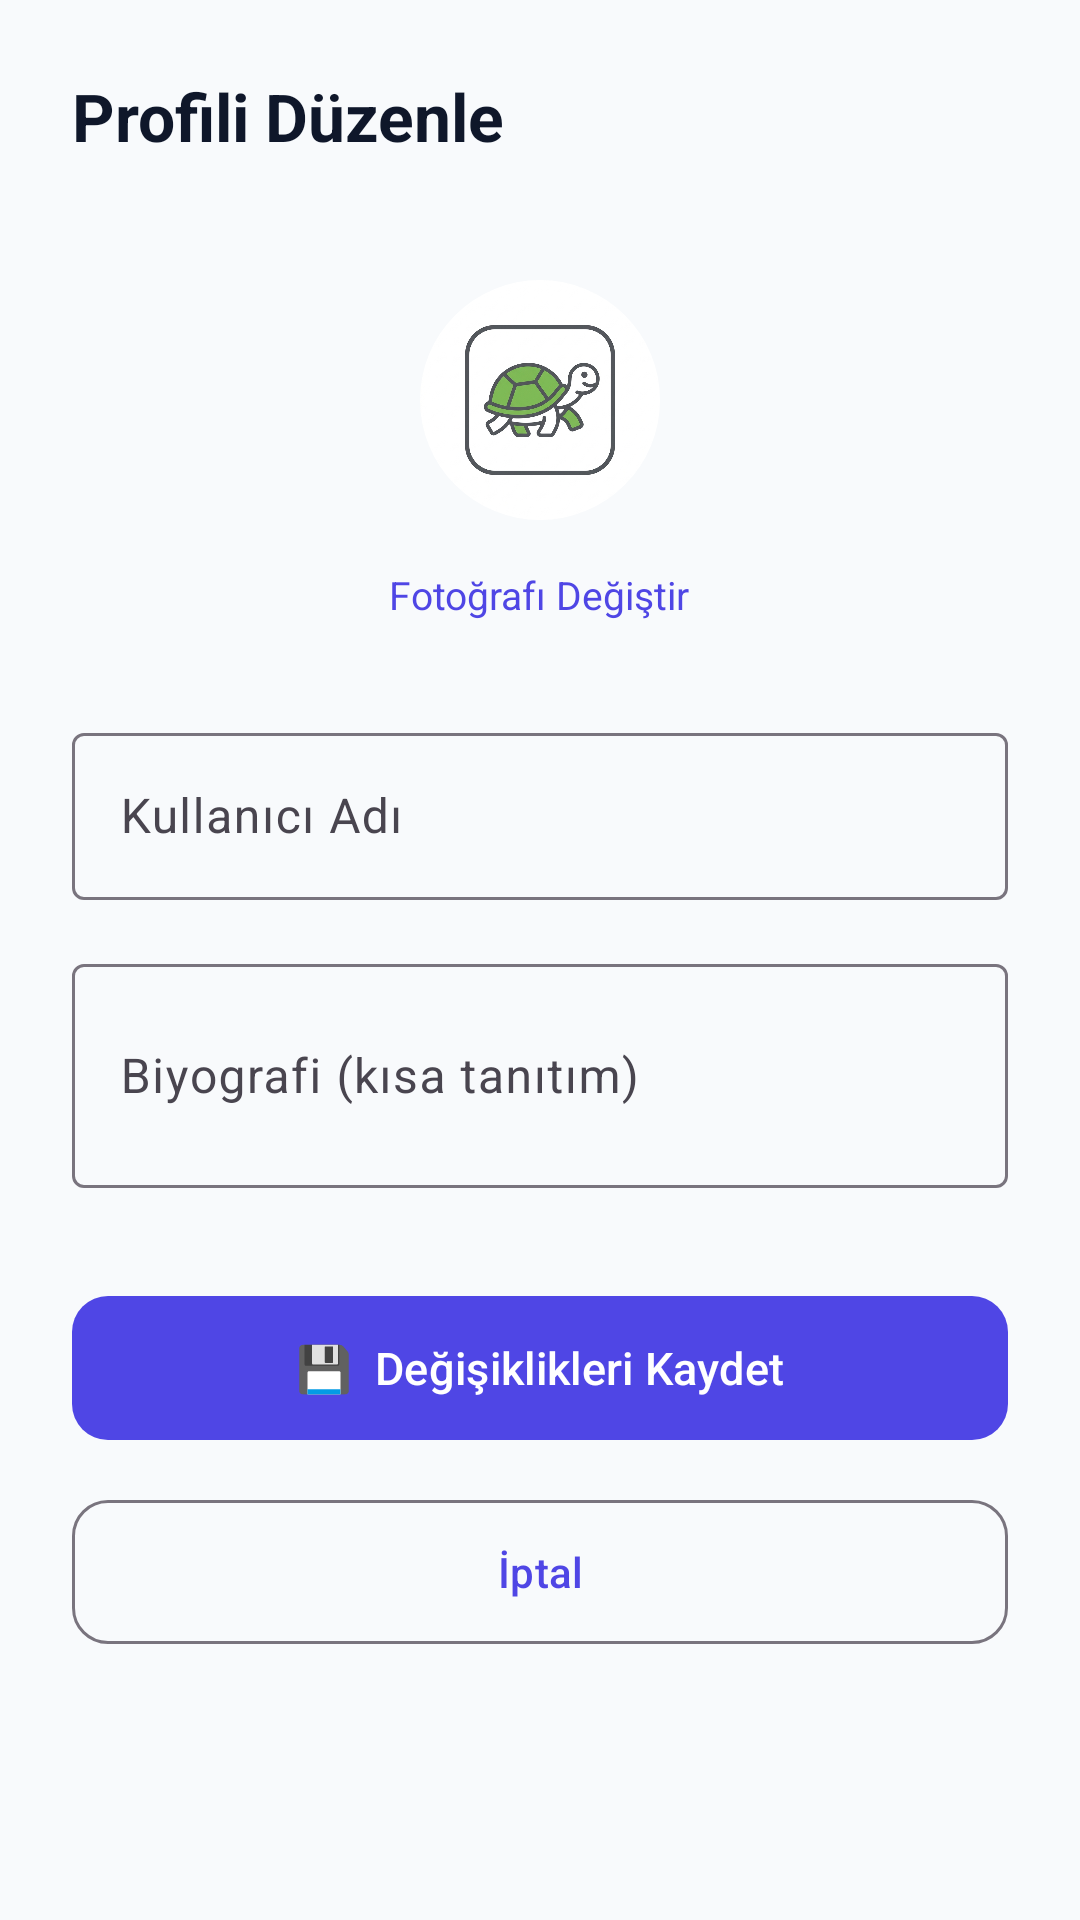

Named icons in this screenshot (1080w x 1920h) and their bounding boxes, region(x1, y1, x2, y2):
turtle: region(465, 325, 615, 475)
